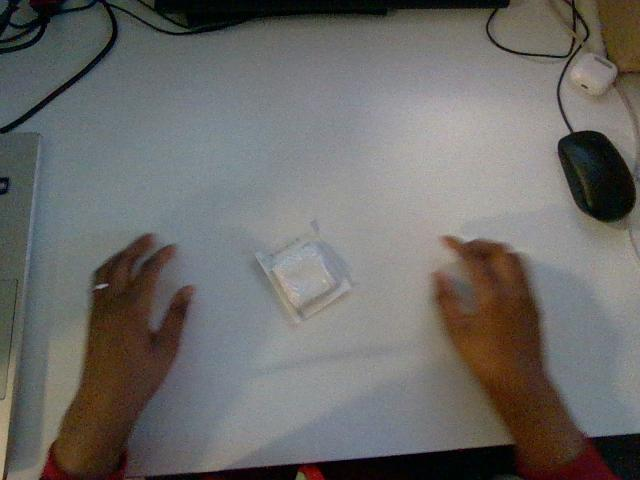gauze: (256, 231, 351, 322)
